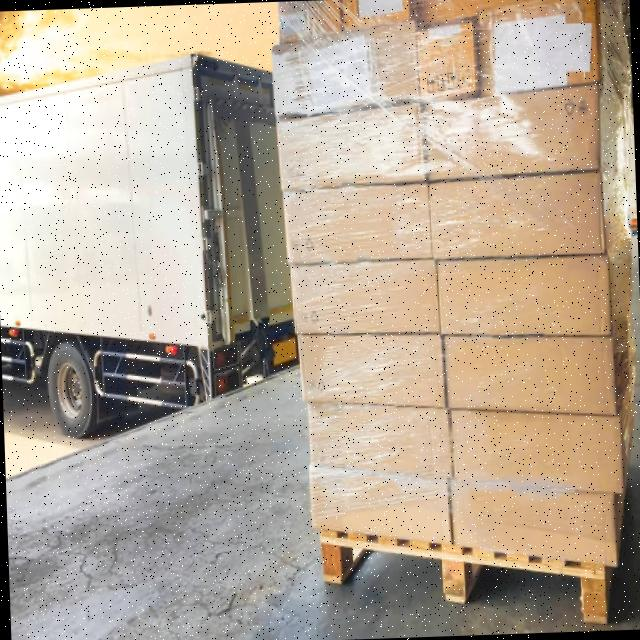Wooden-Pallets: (316, 525, 609, 627)
